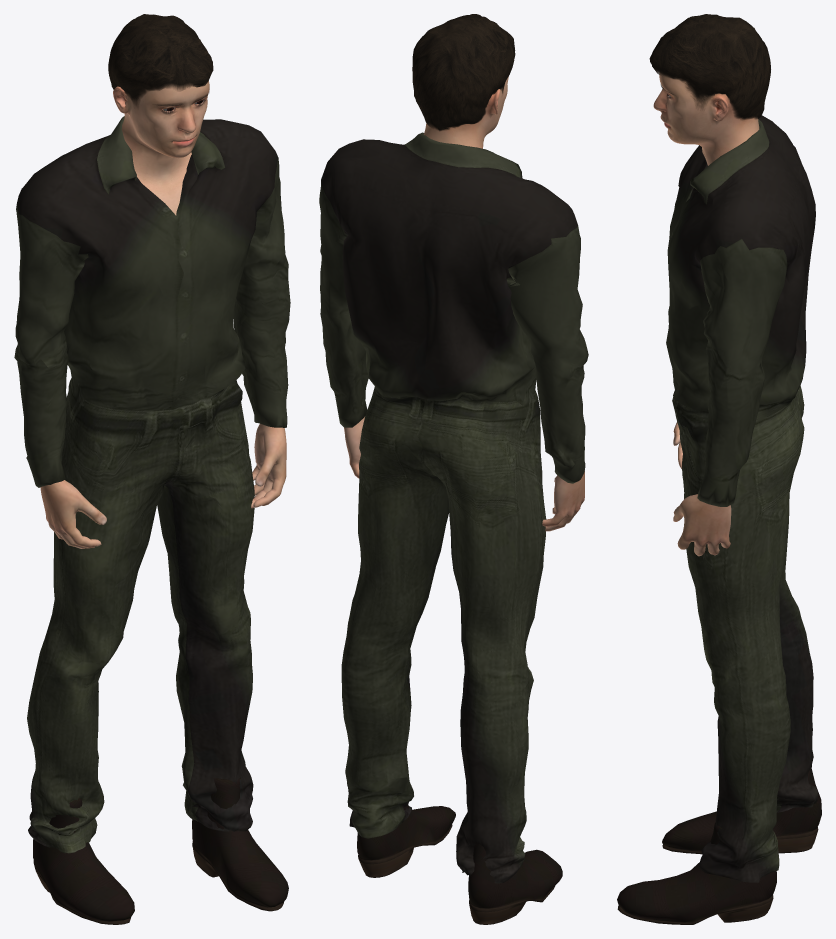
File: civ_kaempfer_stand.glb
3 renders of one model, left to right at view 1: azimuth 30°, elevation 25°; view 2: azimuth 150°, elevation 25°; view 3: azimuth 270°, elevation 25°, orthographic. The views are drawn at different scales.
Visible parts, largest first — view 1: stand; view 2: stand; view 3: stand.
Part boxes in pixels (left/top/right/bottom): stand: left=14, top=14, right=290, bottom=924; stand: left=319, top=14, right=588, bottom=924; stand: left=617, top=14, right=821, bottom=924.
Bounding box in the file's own units: 0.5555 × 1.73 × 0.3734.
7 materials, 7 textured.
